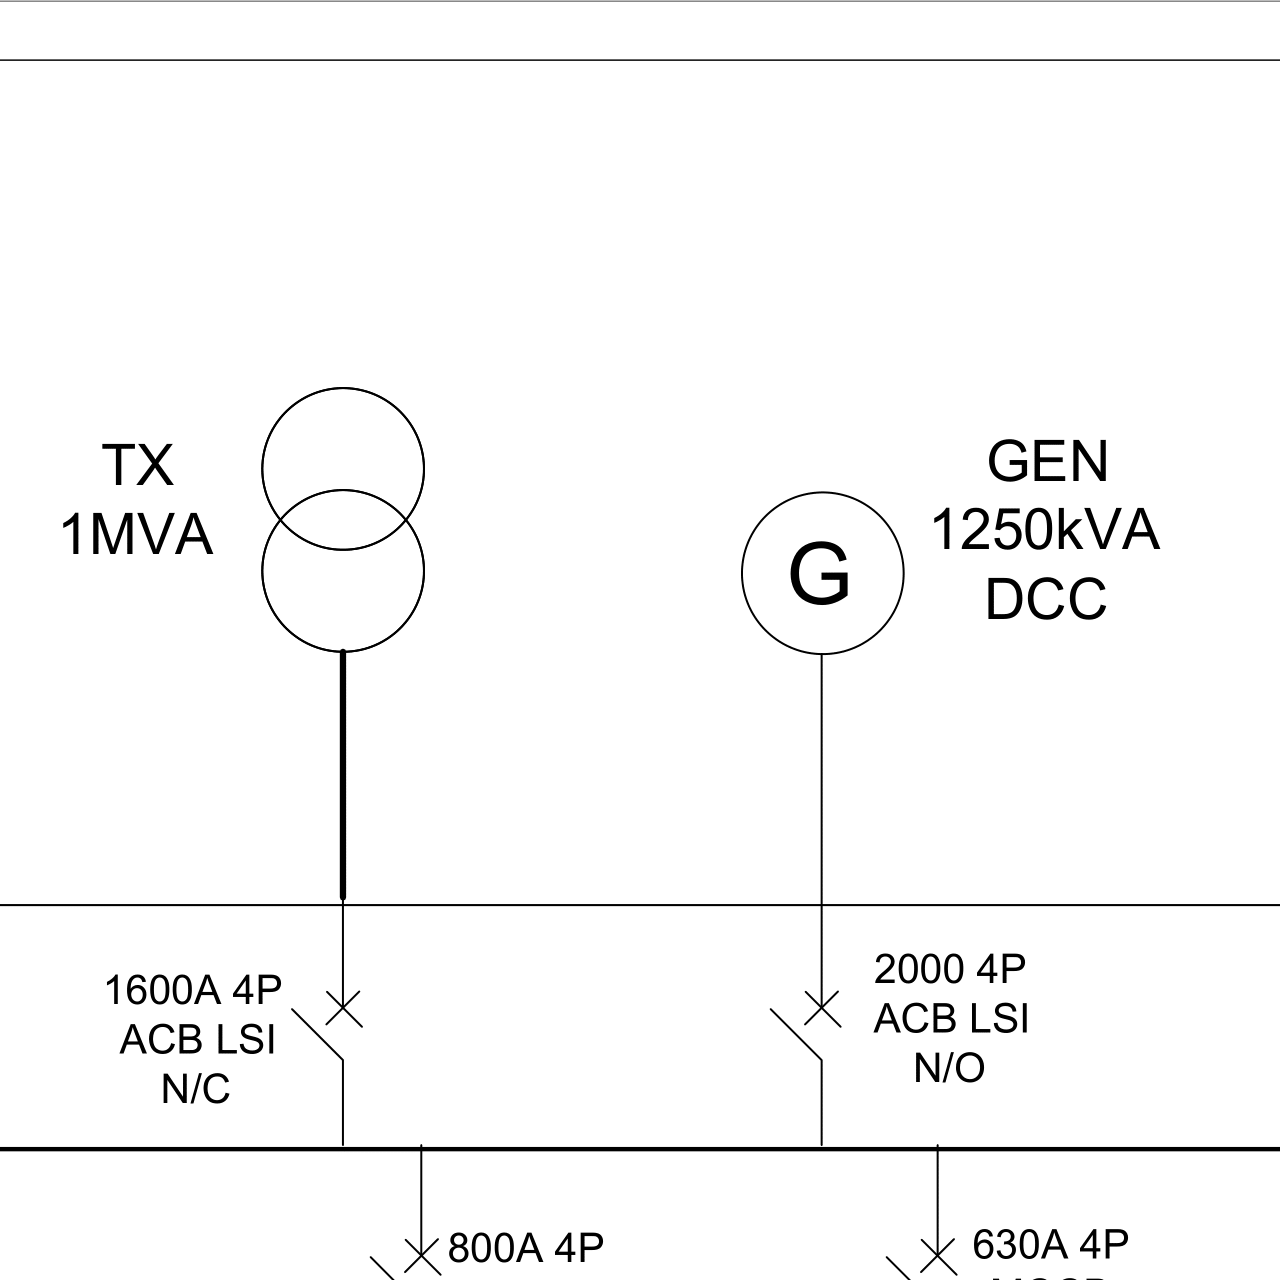Generator: (720, 481, 925, 687)
Transformer: (232, 373, 479, 694)
